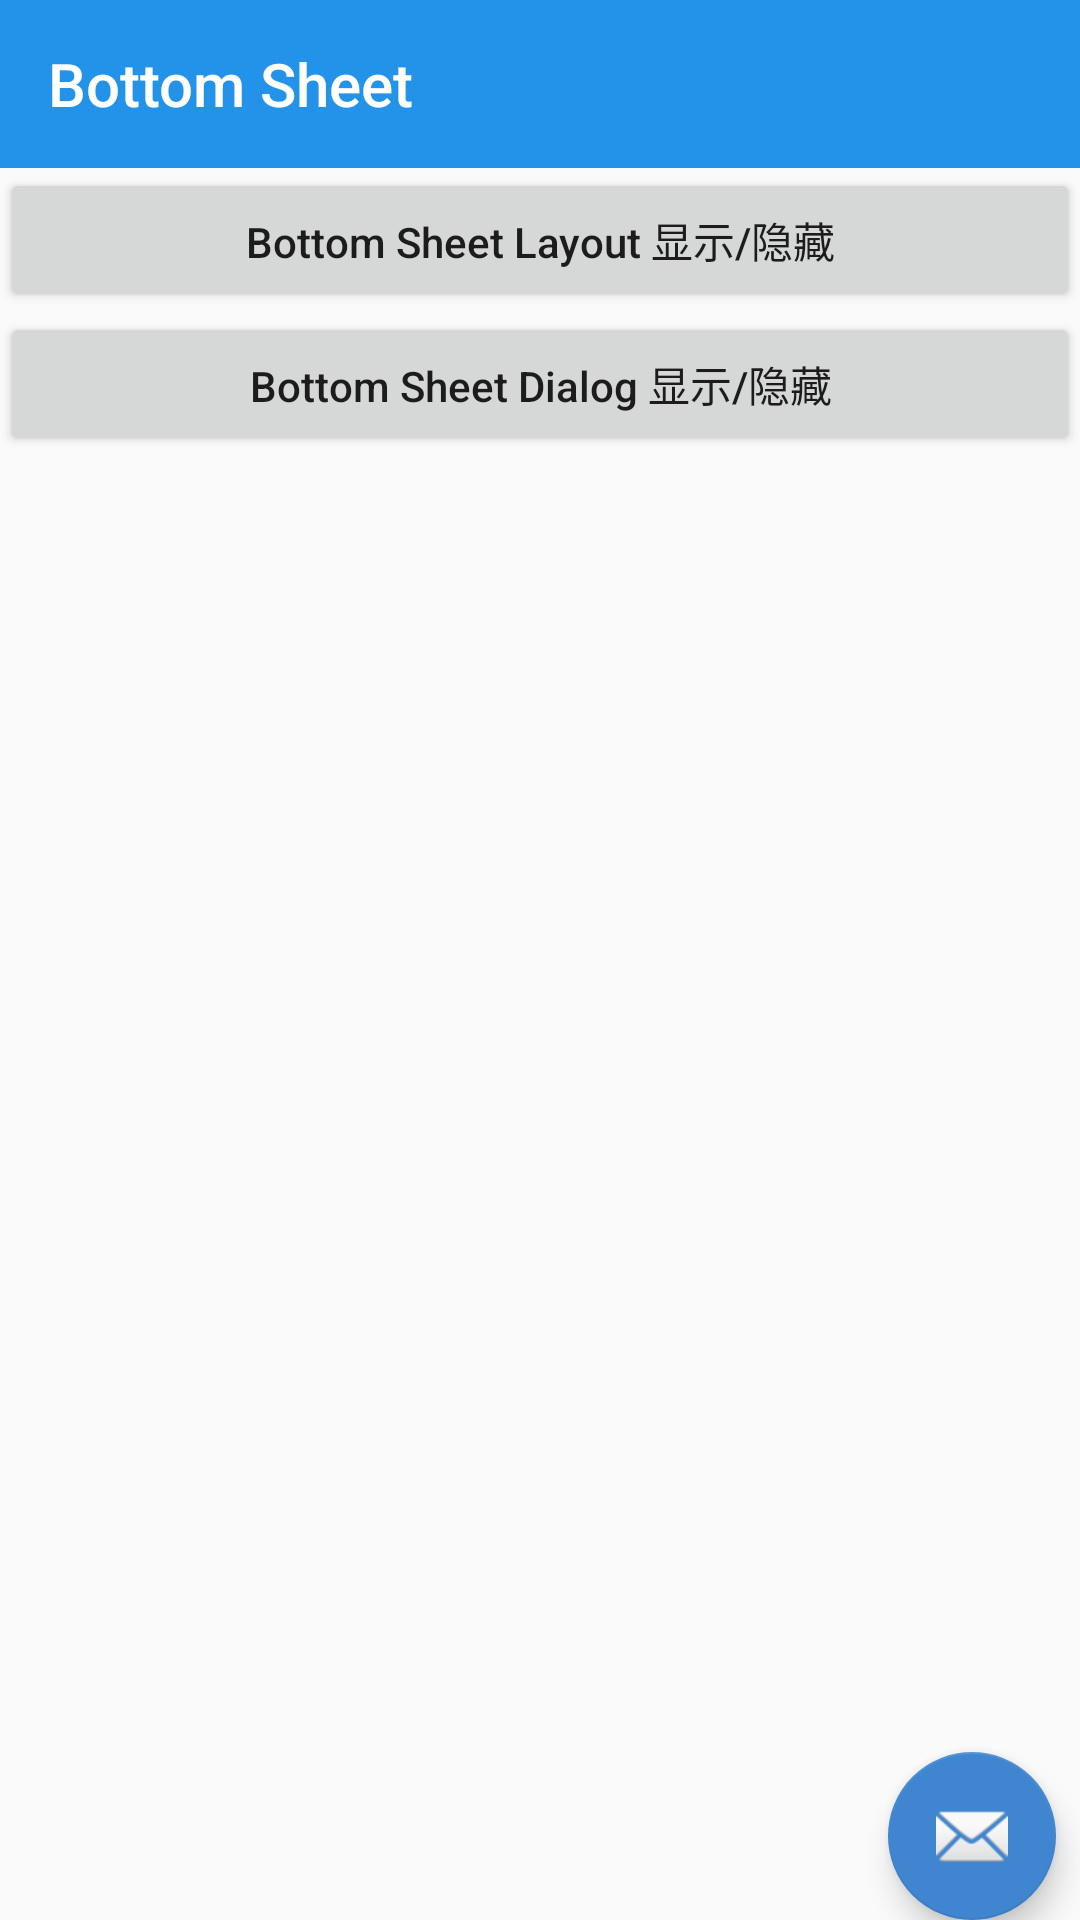

Icons on this 1080*1920 Android screen, each with its box as (x1, y1, x2, y2):
email: (888, 1752, 1056, 1920)
